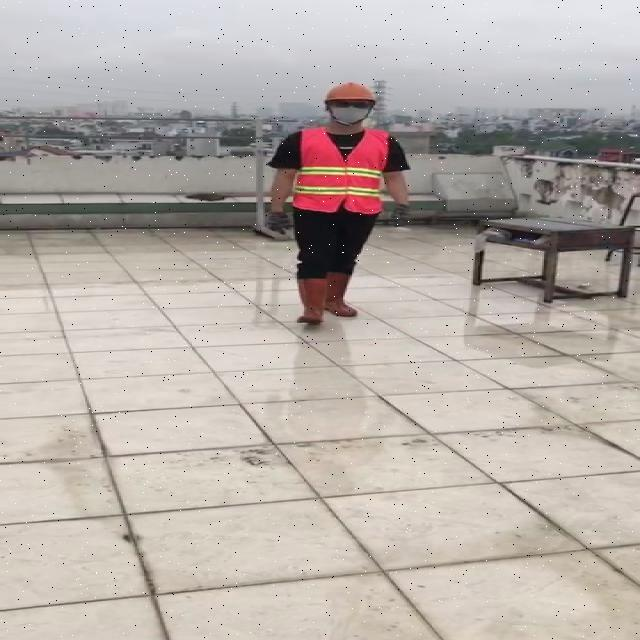Hard_hat: (319, 80, 381, 114)
Person: (256, 75, 419, 352)
Vest: (293, 123, 391, 215)
